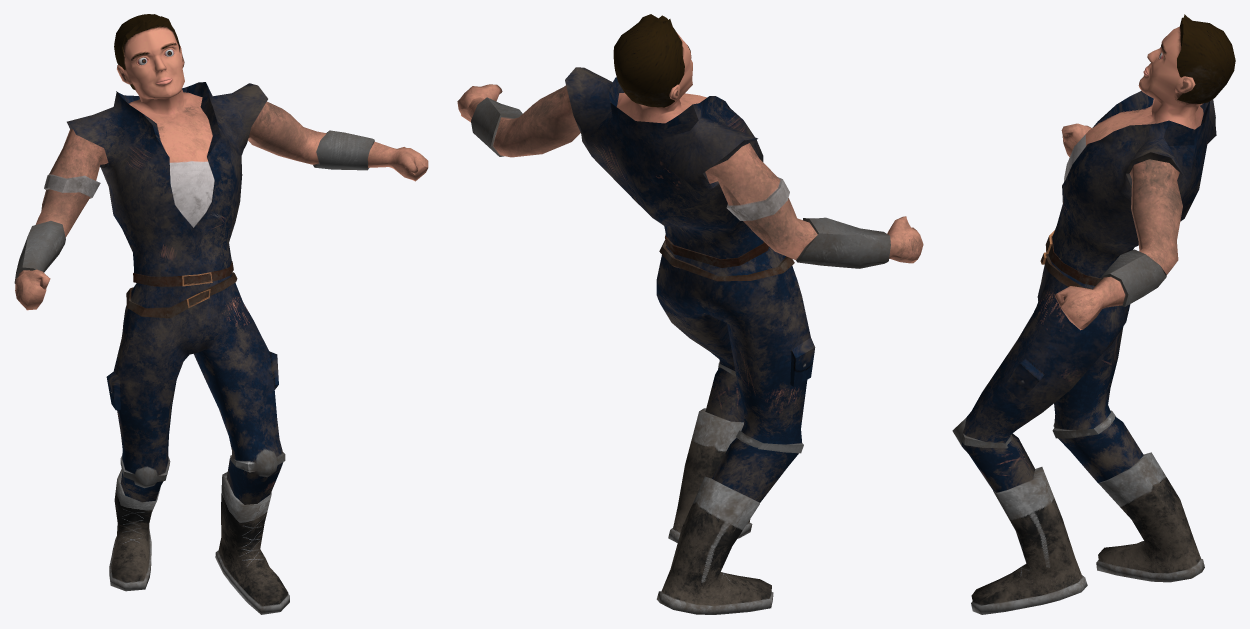
The model's file is Anim_recibirdanyo_jugador.0019.obj.
3 renders of one model, left to right at view 1: azimuth 30°, elevation 25°; view 2: azimuth 150°, elevation 25°; view 3: azimuth 270°, elevation 25°, orthographic. The views are drawn at different scales.
Parts seen in each view (by area): view 1: polySurface1; view 2: polySurface1; view 3: polySurface1.
Boxes of the visible parts, bbox=[...] form: polySurface1: bbox=[14, 14, 428, 614]; polySurface1: bbox=[457, 14, 923, 614]; polySurface1: bbox=[952, 14, 1235, 614].
Bounding box in the file's own units: 7.18 × 8.93 × 3.97.
